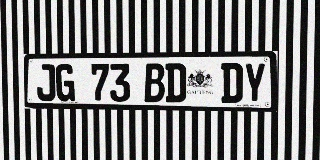3: (110, 64, 130, 102)
7: (90, 64, 109, 102)
B: (144, 63, 165, 102)
D: (221, 63, 243, 103), (165, 63, 186, 102)
G: (55, 64, 75, 101)
J: (36, 64, 55, 101)
Y: (243, 63, 266, 103)
